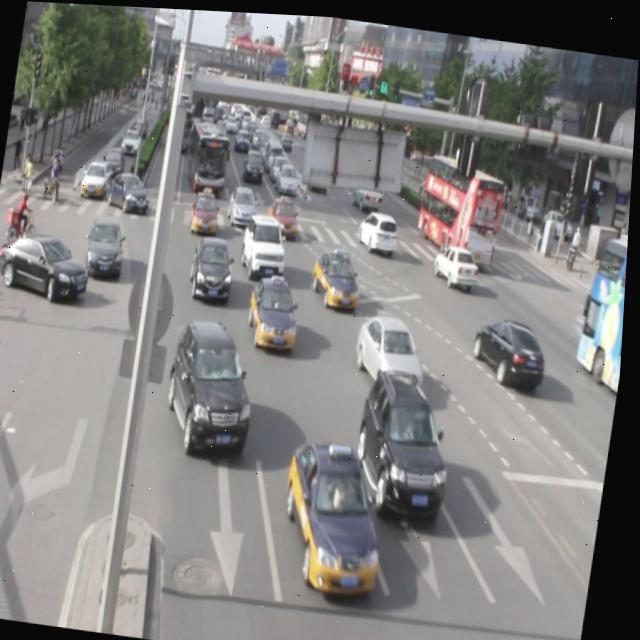car: (281, 430, 401, 592), (352, 360, 466, 516), (166, 313, 267, 456), (354, 304, 434, 390), (471, 308, 553, 380), (247, 269, 307, 349), (310, 242, 369, 306), (241, 207, 293, 278), (191, 229, 240, 300), (85, 211, 130, 278), (433, 234, 483, 283)
van: (574, 224, 631, 392)
